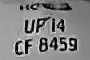1: (48, 18, 57, 35)
4: (57, 18, 68, 34), (50, 38, 58, 53)
5: (58, 36, 68, 55)
8: (37, 35, 50, 54)
9: (68, 37, 81, 54)
C: (12, 36, 23, 57)
F: (22, 37, 34, 57)
P: (36, 17, 47, 36)
U: (24, 17, 35, 36)
